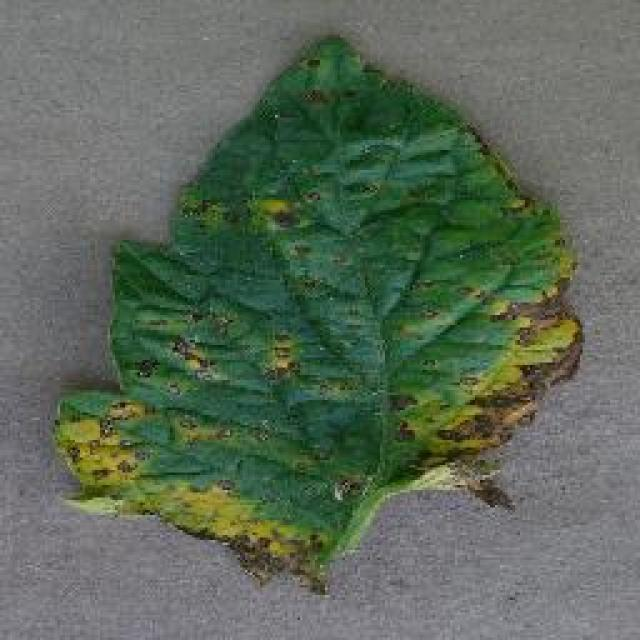Tomato Early blight leaf: (47, 28, 590, 587)
